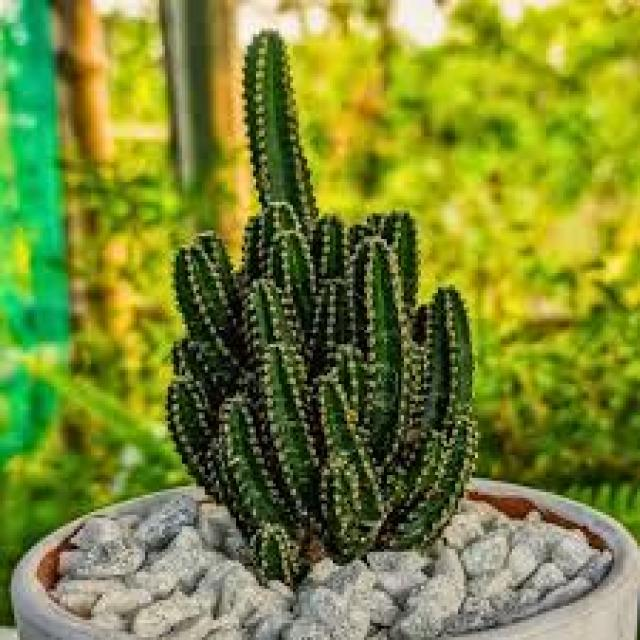cactus: (106, 17, 522, 580)
